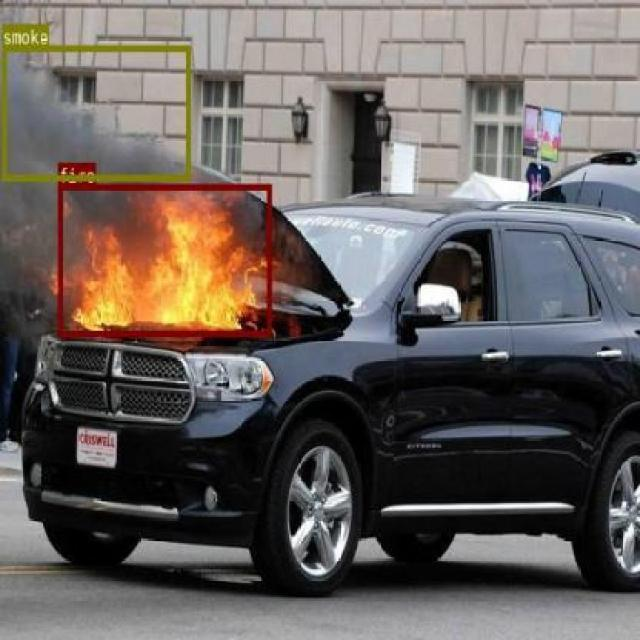Fire: (57, 182, 271, 336)
Smoke: (2, 44, 190, 180)
